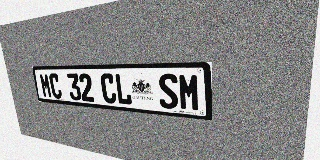2: (78, 73, 94, 102)
3: (67, 73, 82, 101)
C: (100, 73, 117, 104), (48, 73, 63, 99)
L: (114, 73, 132, 105)
M: (178, 73, 200, 112), (39, 73, 53, 98)
S: (158, 73, 179, 110)
